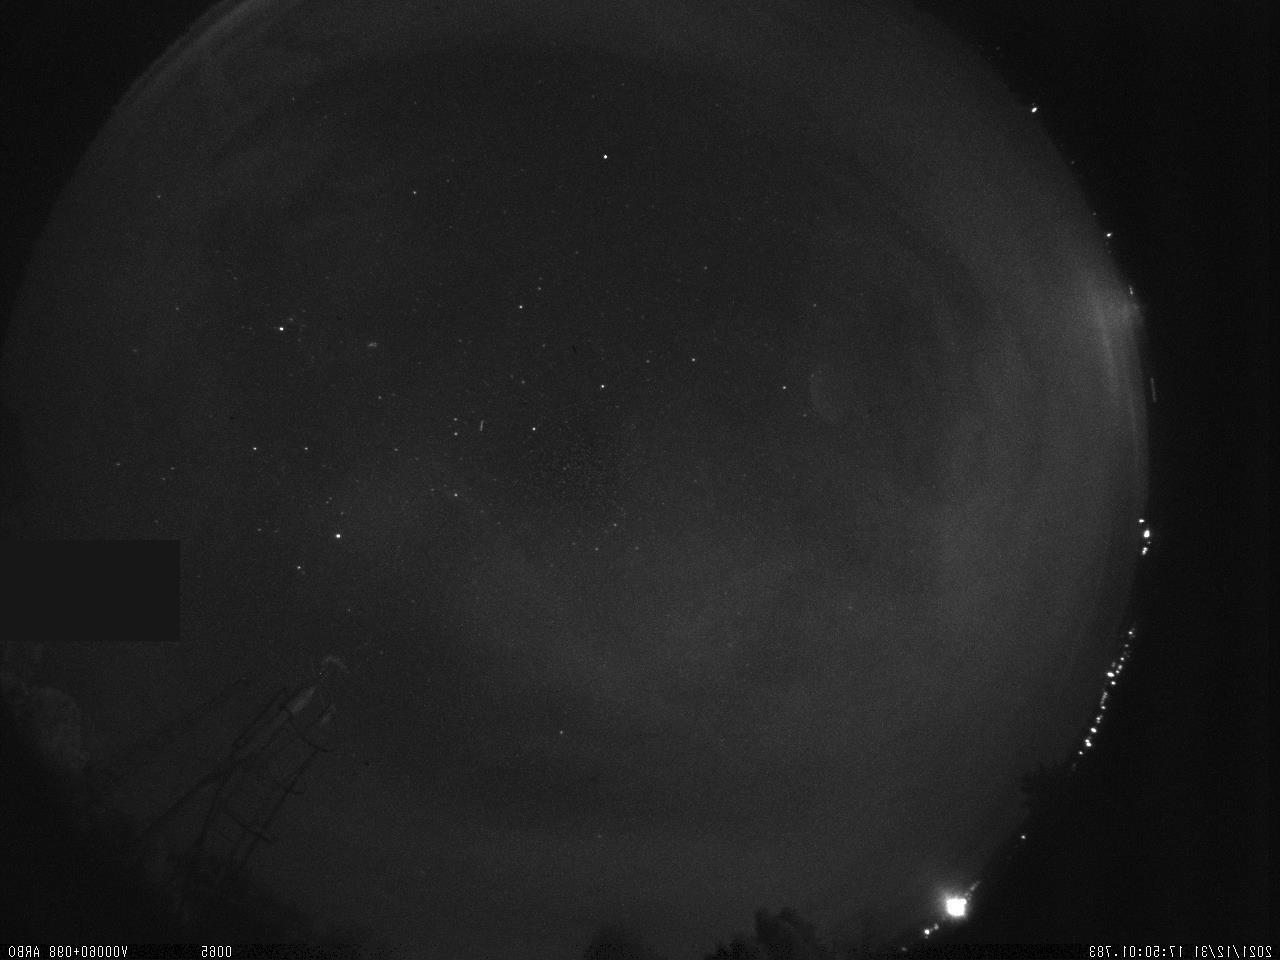meteor: (469, 407, 498, 435)
